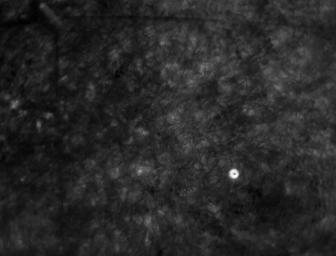landmine: (228, 168, 239, 179)
